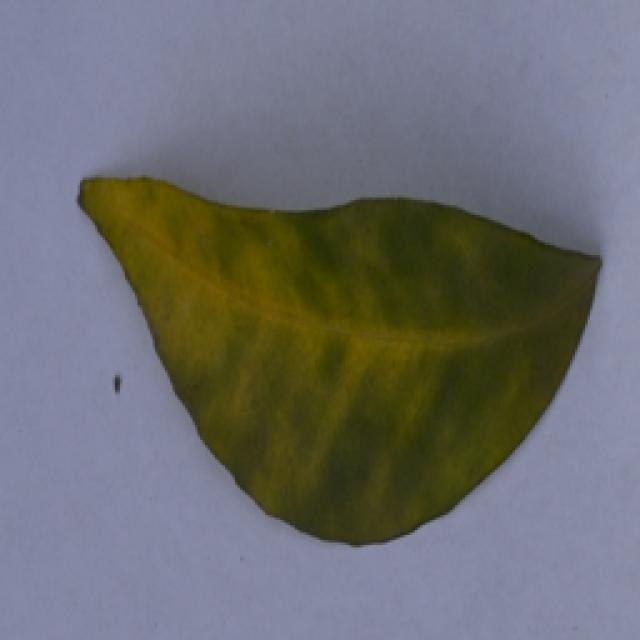greening: (72, 129, 624, 554)
